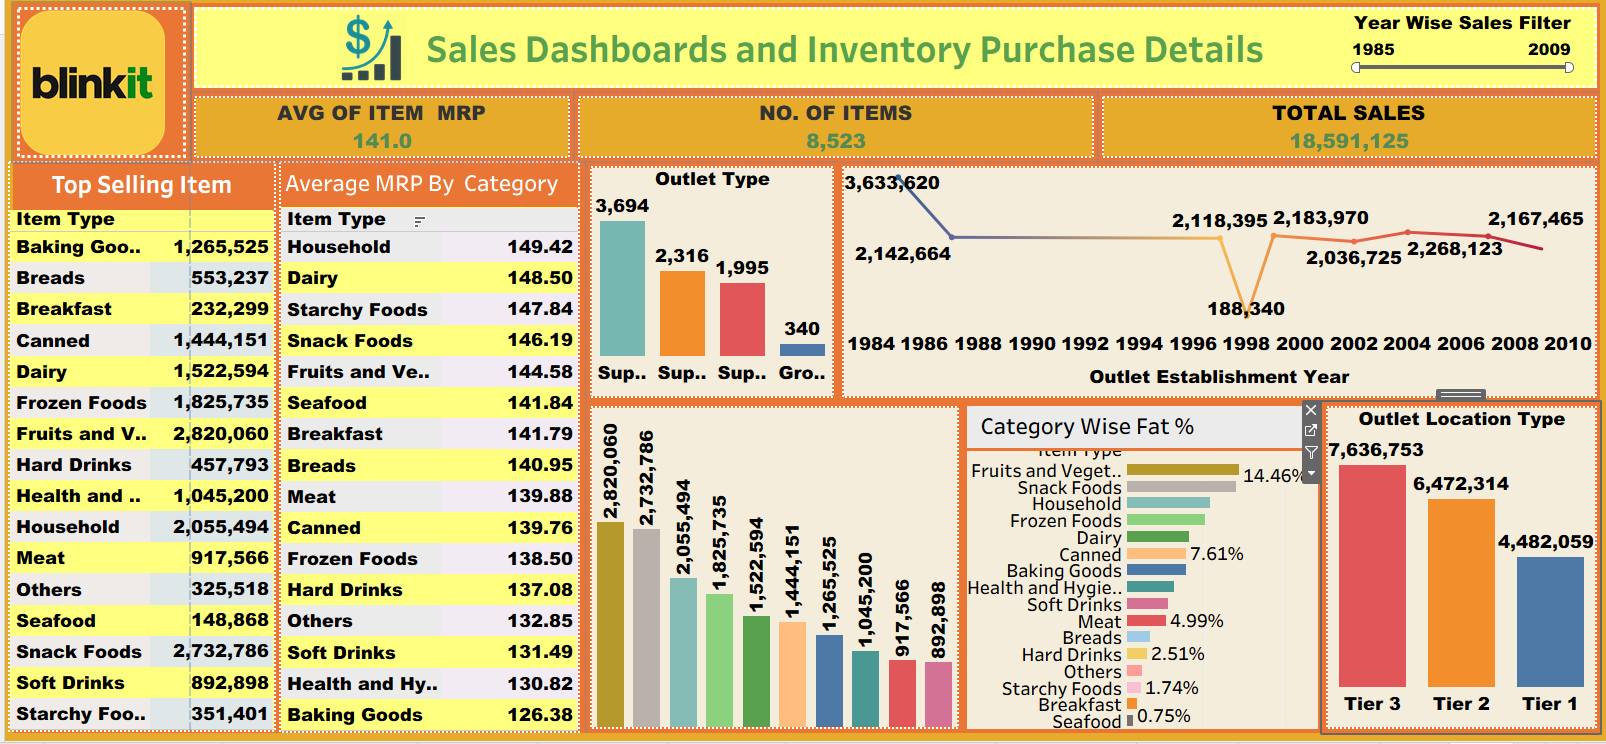

Layout of this report page (visuals, bound fields, positions):
{"tool":"tableau","page":{"name":"BLINKIT","canvas":[1000,1000],"units":"permille","ordinal":0},"visuals":[{"type":"image","param":"Image/Blinkit-yellow-rounded.svg.png","box":[5,10.7,110.3,213.1]},{"type":"text","box":[115.3,10.7,879.7,119.2]},{"type":"filter","title":"sales by year","param":"[federated.07623ef17cwly91gyzqss14h7cns].[none:Outlet_Establishment_Year:qk]","box":[836.7,18.8,144,92.5]},{"type":"image","param":"Image/increase-sales-icon-20.jpg","box":[206.4,22.8,43.6,93.8]},{"type":"worksheet","title":"AVG MRP","mark":"Automatic","box":[115.3,129.9,239.4,93.9]},{"type":"worksheet","title":"NO. OF ITEMS","mark":"Automatic","box":[354.7,129.9,326.7,93.9]},{"type":"worksheet","title":"TOTAL SALES","mark":"Automatic","box":[681.4,129.9,313.7,93.9]},{"type":"worksheet","title":"top sellings","mark":"Automatic","rows":["Item_Type"],"box":[1.9,222.5,167.1,765.4]},{"type":"worksheet","title":"avg mrp by item types","mark":"Automatic","rows":["Item_Type"],"box":[170.8,222.5,187.7,766.8]},{"type":"worksheet","title":"avg sales by outlet","mark":"Automatic","rows":["Item_Outlet_Sales"],"cols":["Outlet_Type"],"box":[362.2,223.8,157.3,321.7]},{"type":"worksheet","title":"sales by year","mark":"Line","rows":["Item_Outlet_Sales"],"cols":["Outlet_Establishment_Year"],"box":[519.5,223.8,475.6,321.7]},{"type":"worksheet","title":"top 10 selling item","mark":"Automatic","rows":["Item_Outlet_Sales"],"cols":["Item_Type"],"box":[362.2,545.5,235,443.8]},{"type":"worksheet","title":"Fat %","mark":"Automatic","rows":["Item_Type"],"box":[597.2,545.5,223.9,443.8]},{"type":"worksheet","title":"sales by the location","mark":"Automatic","rows":["Item_Outlet_Sales"],"cols":["Outlet_Location_Type"],"box":[821.1,545.5,173.9,443.8]}]}

Visuals, with their boxes on the dashboard's canvas, which has no fixed pixel size, in thousandths of its width and height (x1, y1, x2, y2). These are canvas units, not pixel positions in the 1606x744 screenshot, which may show the page scaled, cropped or inside an application window:
image: crop(5, 11, 115, 224)
text: crop(115, 11, 995, 130)
"sales by year" filter: crop(837, 19, 981, 111)
image: crop(206, 23, 250, 117)
"AVG MRP" worksheet: crop(115, 130, 355, 224)
"NO. OF ITEMS" worksheet: crop(355, 130, 681, 224)
"TOTAL SALES" worksheet: crop(681, 130, 995, 224)
"top sellings" worksheet: crop(2, 222, 169, 988)
"avg mrp by item types" worksheet: crop(171, 222, 358, 989)
"avg sales by outlet" worksheet: crop(362, 224, 520, 546)
"sales by year" worksheet (Line marks): crop(520, 224, 995, 546)
"top 10 selling item" worksheet: crop(362, 546, 597, 989)
"Fat %" worksheet: crop(597, 546, 821, 989)
"sales by the location" worksheet: crop(821, 546, 995, 989)
